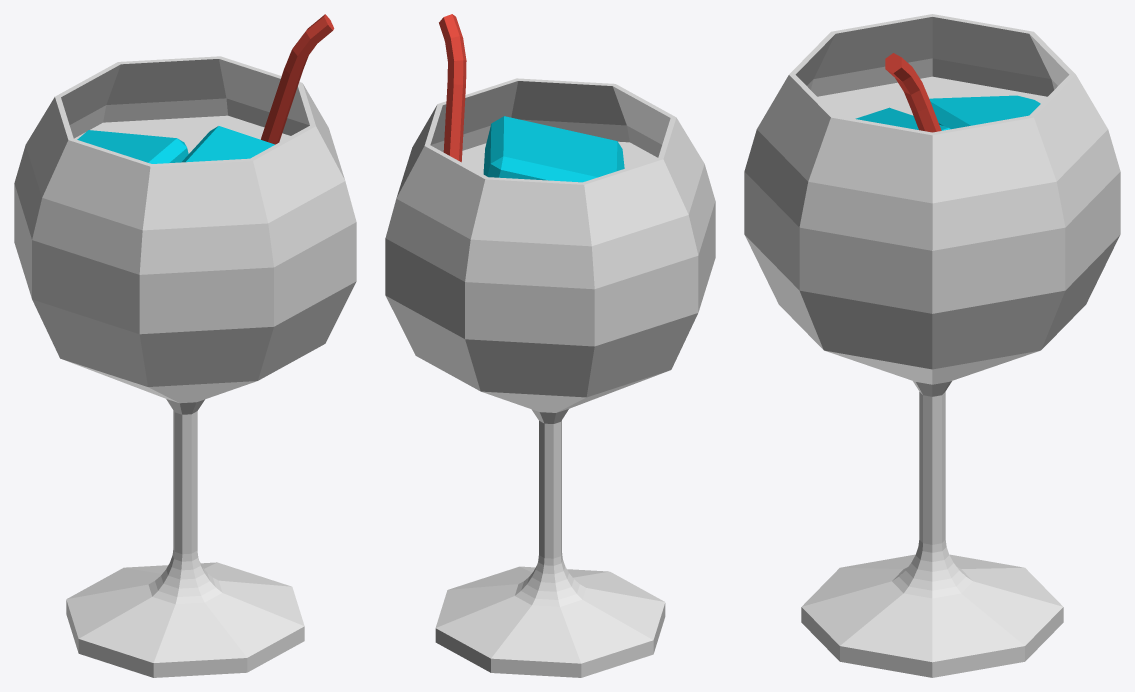
The model's file is Copa_2_2.fbx.
3 views of the same model, side by side, from view 1: azimuth 30°, elevation 25°; view 2: azimuth 150°, elevation 25°; view 3: azimuth 270°, elevation 25° (orthographic). The views are drawn at different scales.
Visible parts, largest first — view 1: Copa_2_2, Copa_2_2.001, Copa_2_2.003, Copa_2_2.002; view 2: Copa_2_2, Copa_2_2.001, Copa_2_2.002, Copa_2_2.003; view 3: Copa_2_2, Copa_2_2.003, Copa_2_2.001, Copa_2_2.002.
Boxes of the visible parts, x1,y1,x2,y2 form: Copa_2_2: [14, 56, 356, 677]; Copa_2_2.001: [77, 126, 274, 163]; Copa_2_2.003: [74, 115, 290, 153]; Copa_2_2.002: [261, 14, 334, 144]; Copa_2_2: [385, 78, 715, 677]; Copa_2_2.001: [483, 116, 624, 182]; Copa_2_2.002: [439, 14, 466, 162]; Copa_2_2.003: [461, 141, 657, 174]; Copa_2_2: [744, 14, 1120, 677]; Copa_2_2.003: [817, 76, 1047, 118]; Copa_2_2.001: [855, 95, 1040, 130]; Copa_2_2.002: [885, 53, 941, 132].
Size of the model in its own units: 72.74 by 135 by 72.74.
